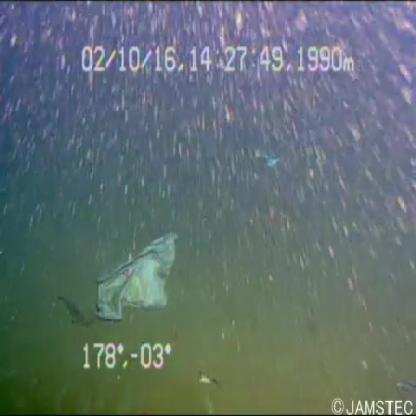Rác: (84, 219, 192, 330), (251, 141, 282, 183)
